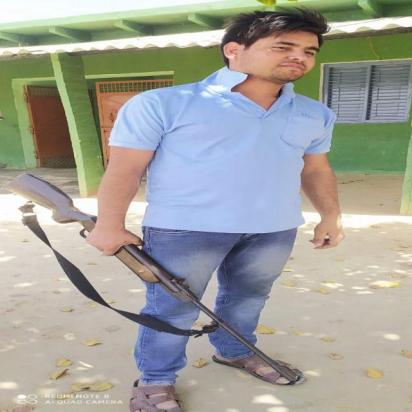Gun: (2, 171, 306, 383)
